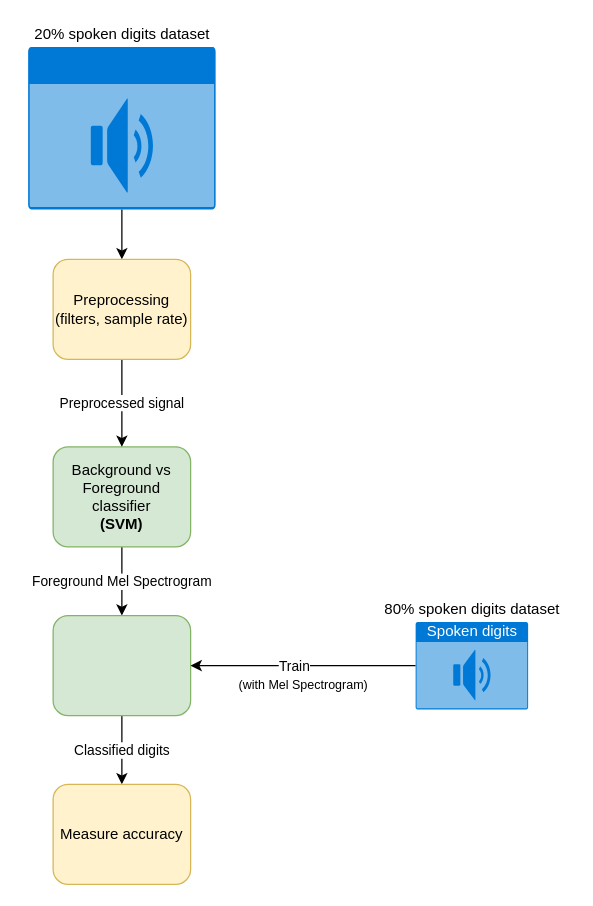
Image size: 593x906. Some labels were removed from this diagram. Each missing label, with the centre of its shape:
"Classifier for digit classification (KNN /FNN)" belongs at (x=121, y=665).
"Spoken digits + space + background noise" belongs at (x=121, y=127).
